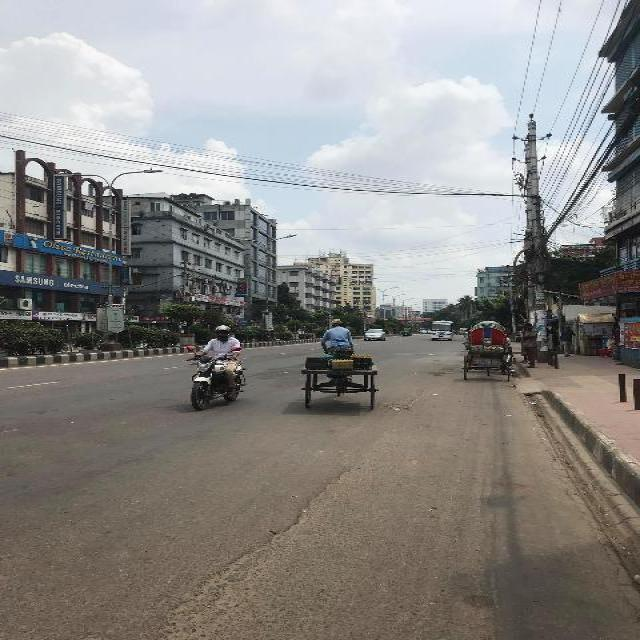bus: (429, 320, 454, 340)
car: (362, 328, 385, 340)
motorbike: (183, 322, 249, 411)
rickshaw: (298, 316, 379, 412), (460, 319, 511, 381)
three wheelers -CNG-: (401, 327, 410, 337)
